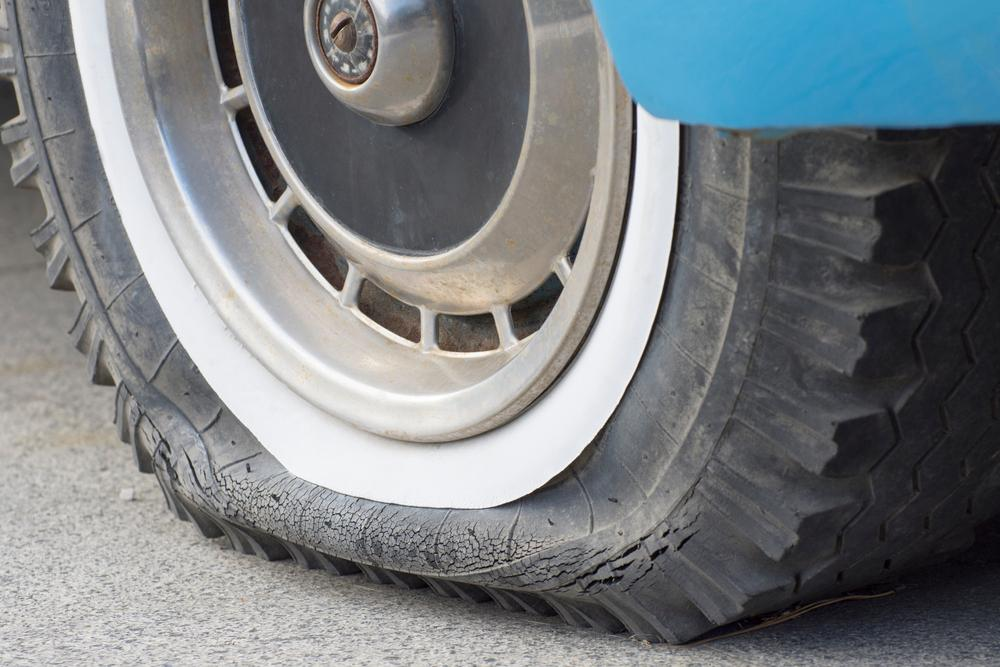tire flat: (0, 0, 1000, 644)
